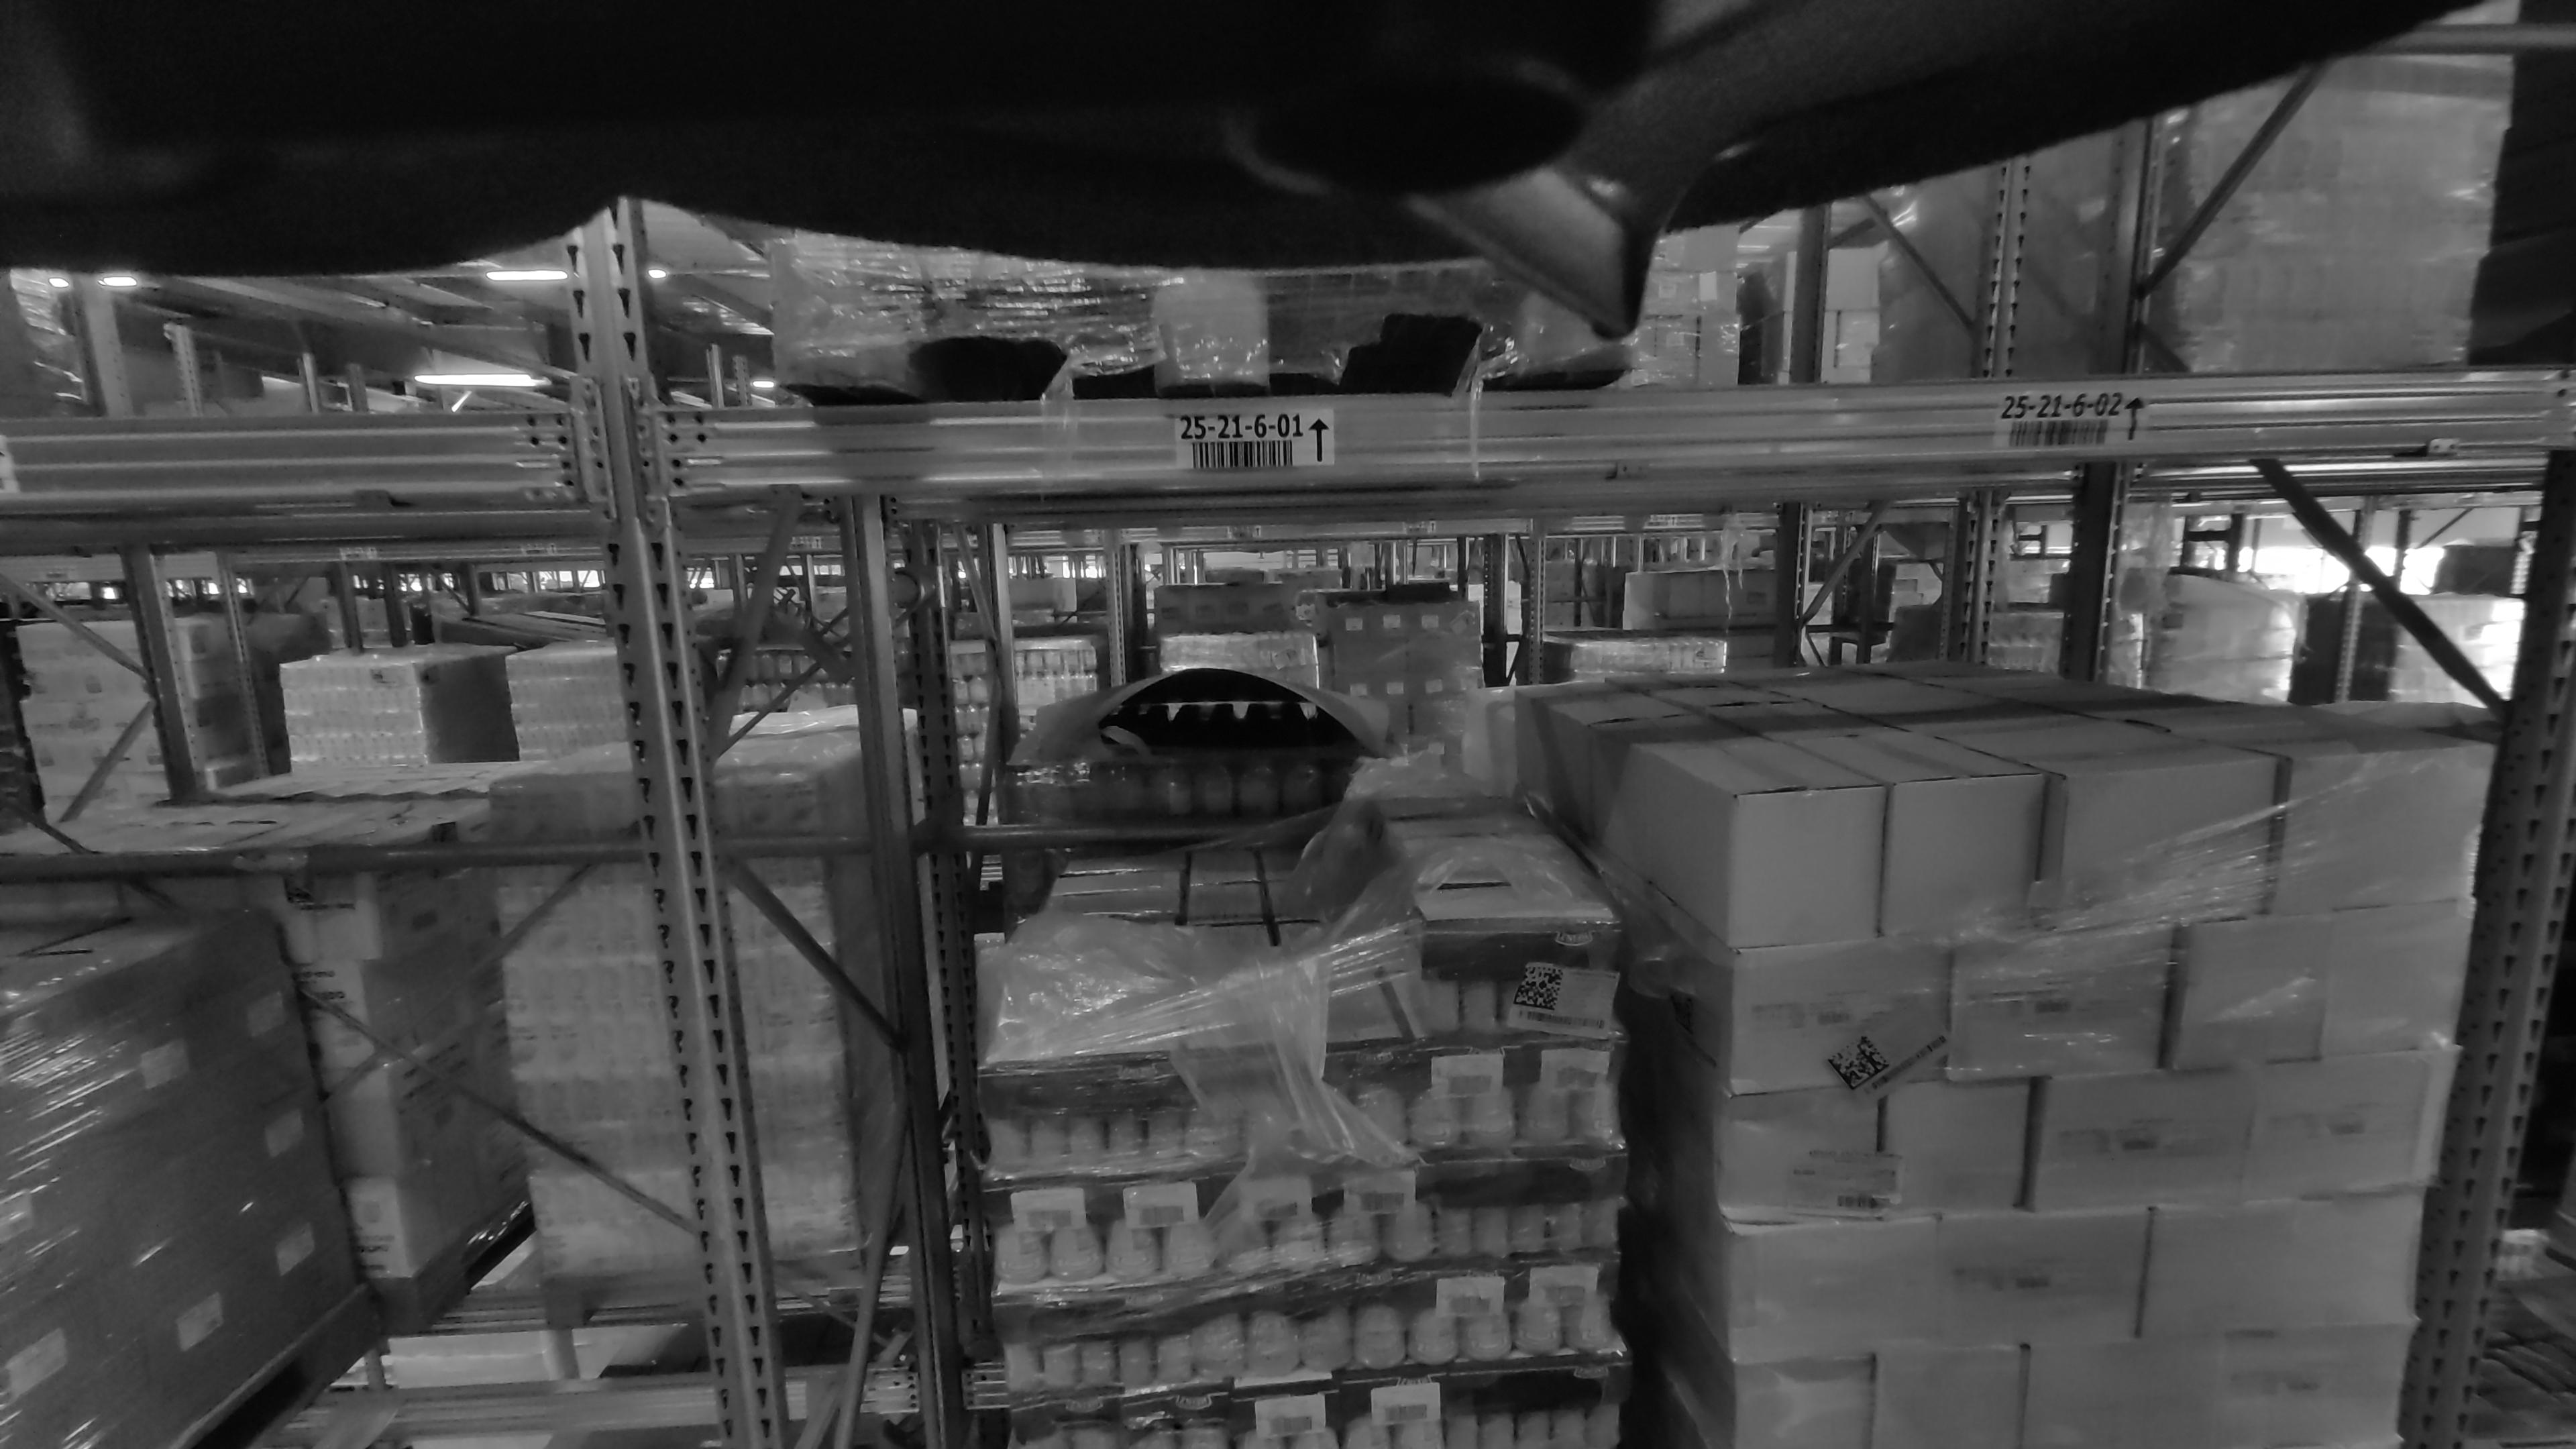empty-shelf: (180, 533, 667, 1449), (1695, 0, 2574, 363)
